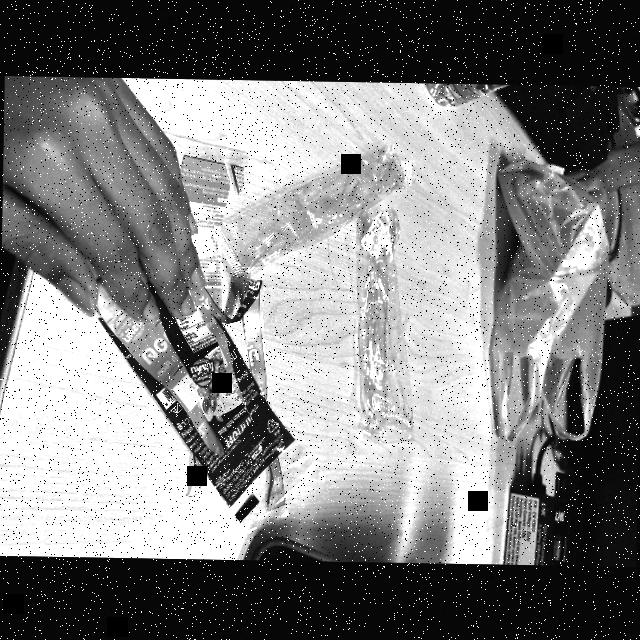scrap_plastic: (97, 264, 312, 526), (213, 139, 419, 277), (352, 200, 424, 448)
